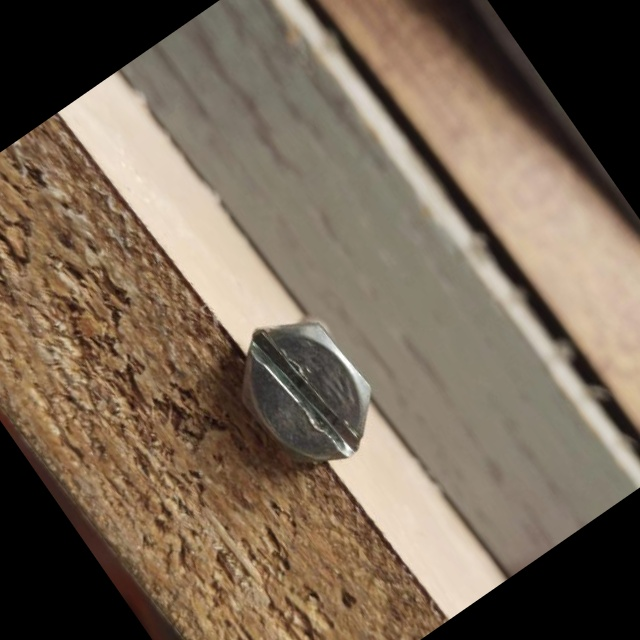duz: (211, 293, 400, 493)
